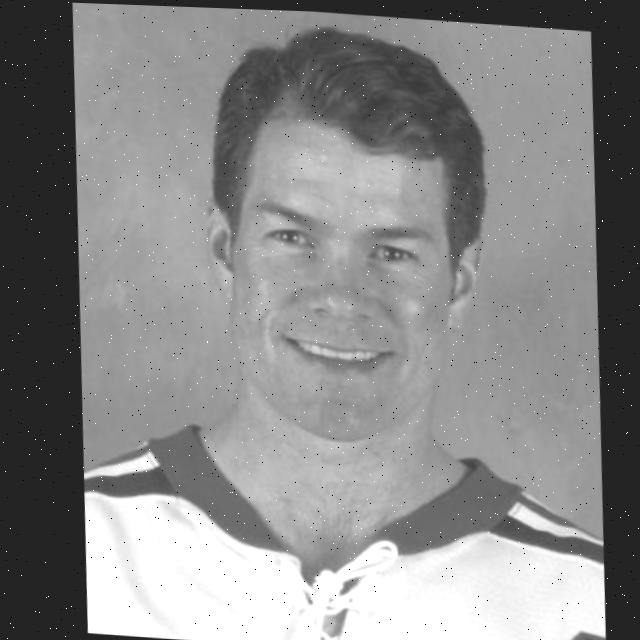face: (194, 121, 475, 444)
